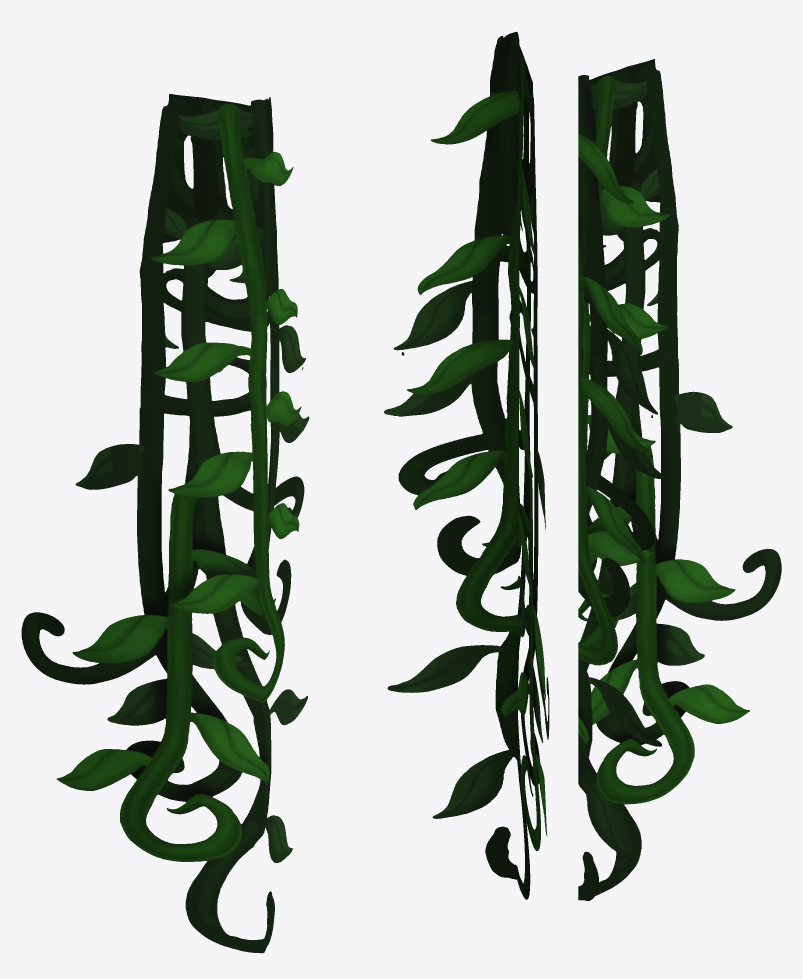
Rendered from sm_env_longcornervines3.fbx.
3 views of the same model, side by side, from view 1: azimuth 30°, elevation 25°; view 2: azimuth 150°, elevation 25°; view 3: azimuth 270°, elevation 25° (orthographic). The views are drawn at different scales.
Parts seen in each view (by area): view 1: pPlane89; view 2: pPlane89; view 3: pPlane89.
Boxes of the visible parts, bbox=[...] form: pPlane89: bbox=[21, 94, 309, 953]; pPlane89: bbox=[384, 32, 549, 899]; pPlane89: bbox=[578, 59, 781, 900].
Size of the model in its own units: 89.5 by 297 by 66.23.
